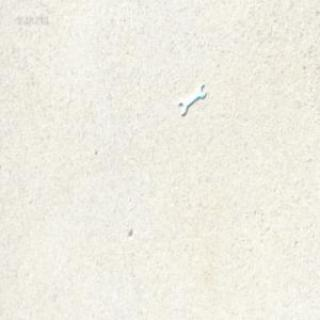Wrenchtrack_idkeyframe: (178, 84, 204, 115)
